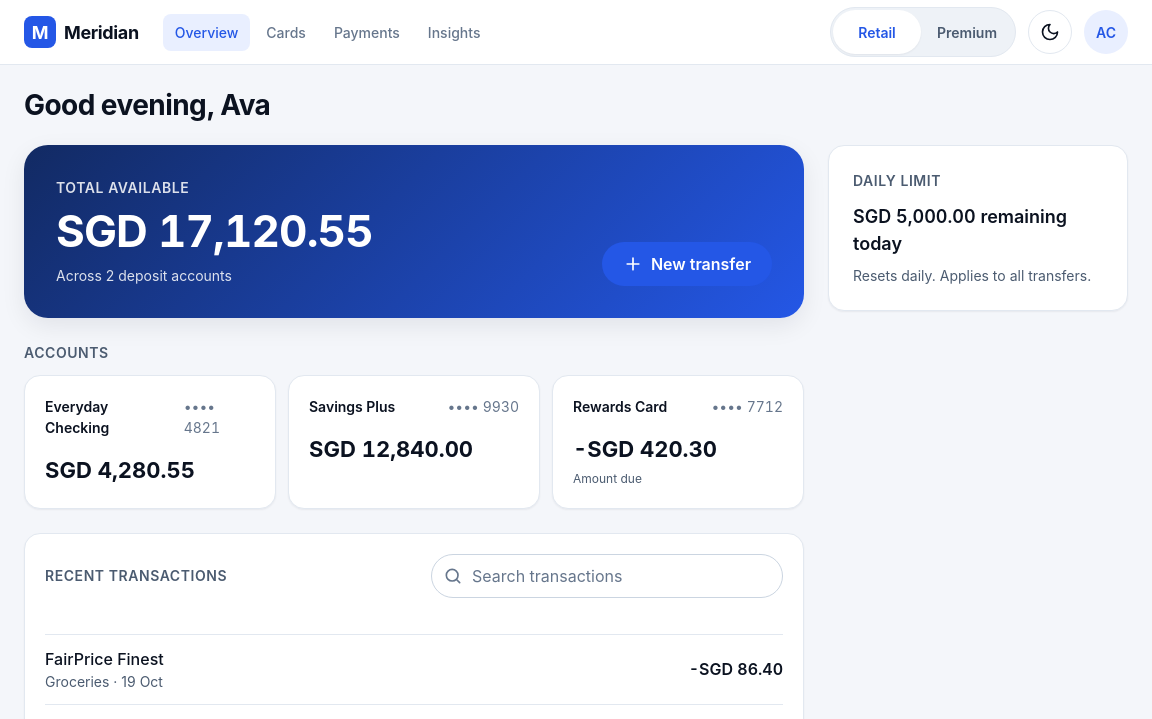
transfer dialog › starts empty again after Cancel
The width and height of the screenshot is (1152, 719).
Click the button "New transfer".
click(687, 264)  # box [602, 242, 772, 286]
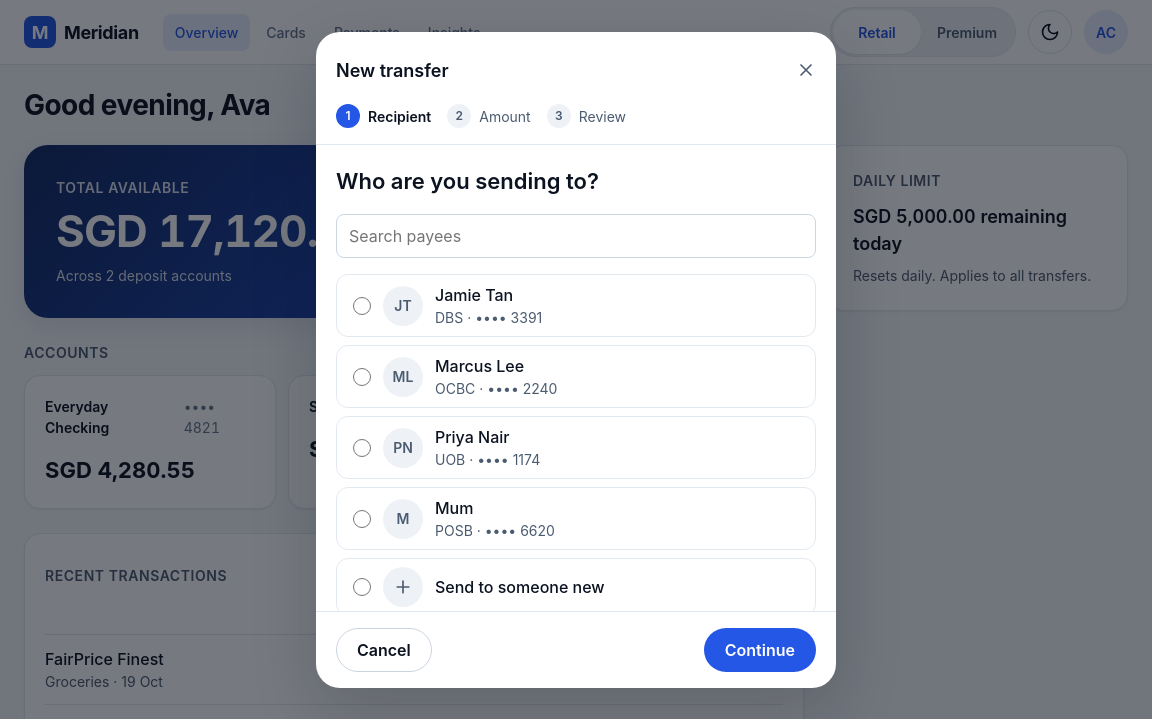
Click the radio button labelled "JT Jamie Tan DBS · •••• 3391".
click(362, 306)  # box [353, 296, 371, 314]
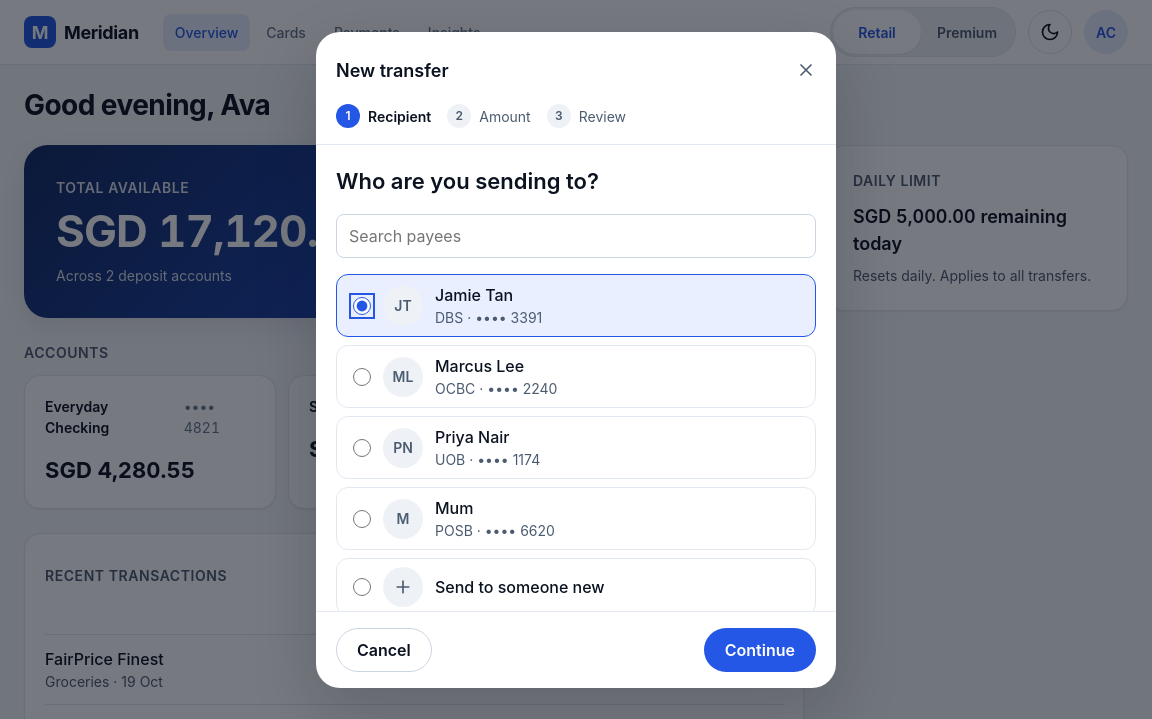
Click the button "Cancel".
click(384, 650)  # box [336, 628, 432, 672]
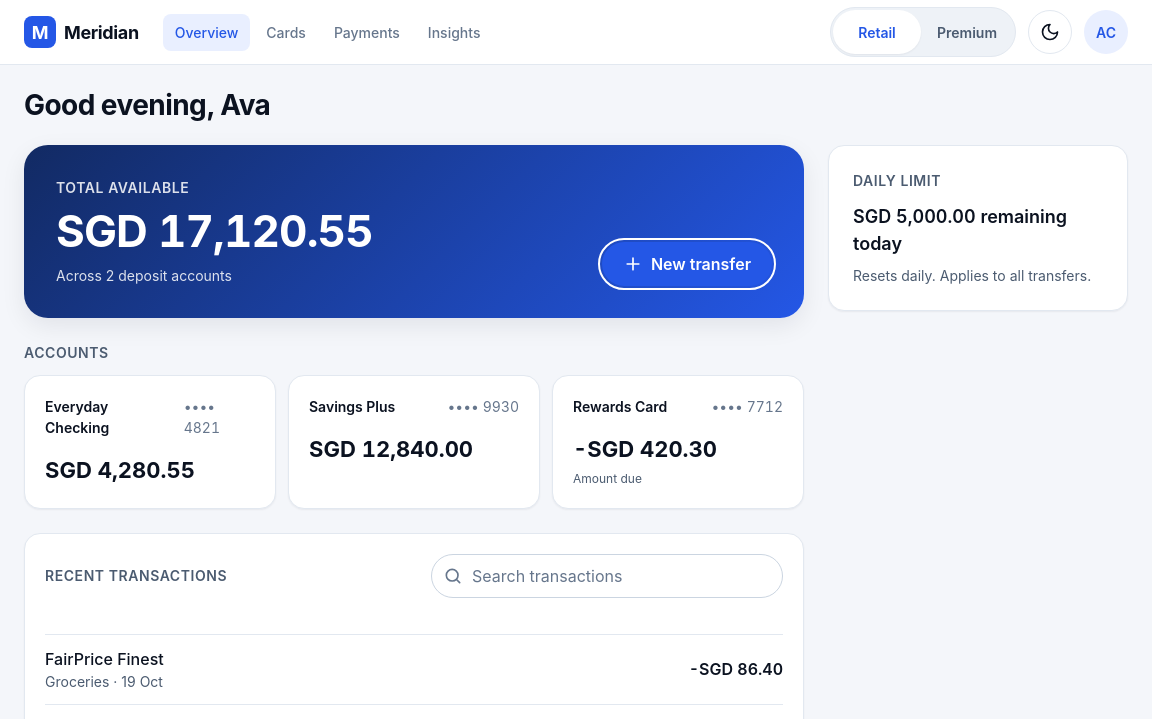
Click the button "New transfer".
click(687, 264)  # box [602, 242, 772, 286]
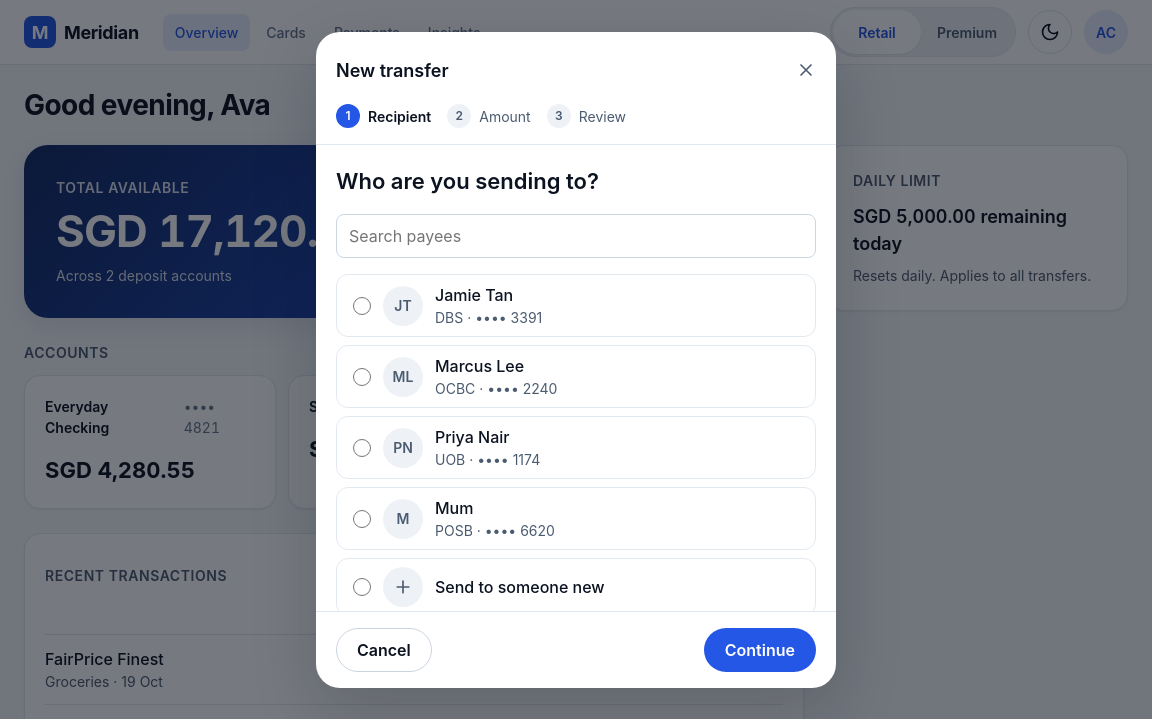
Check: the radio button labelled "JT Jamie Tan DBS · •••• 3391" is not checked, box [353, 296, 371, 314]
